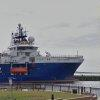Boat: (2, 23, 89, 96)
